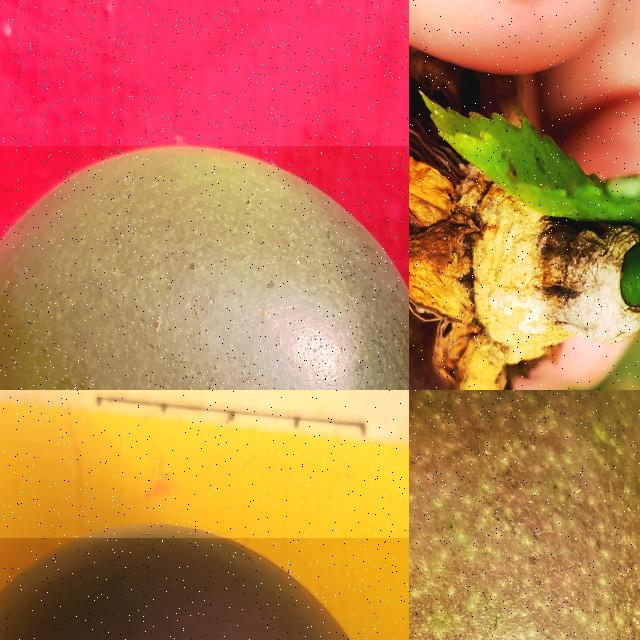Estado-2: (0, 146, 409, 390)
Estado-3: (409, 390, 640, 640)
Estado-5: (409, 70, 640, 390), (0, 538, 345, 640)
